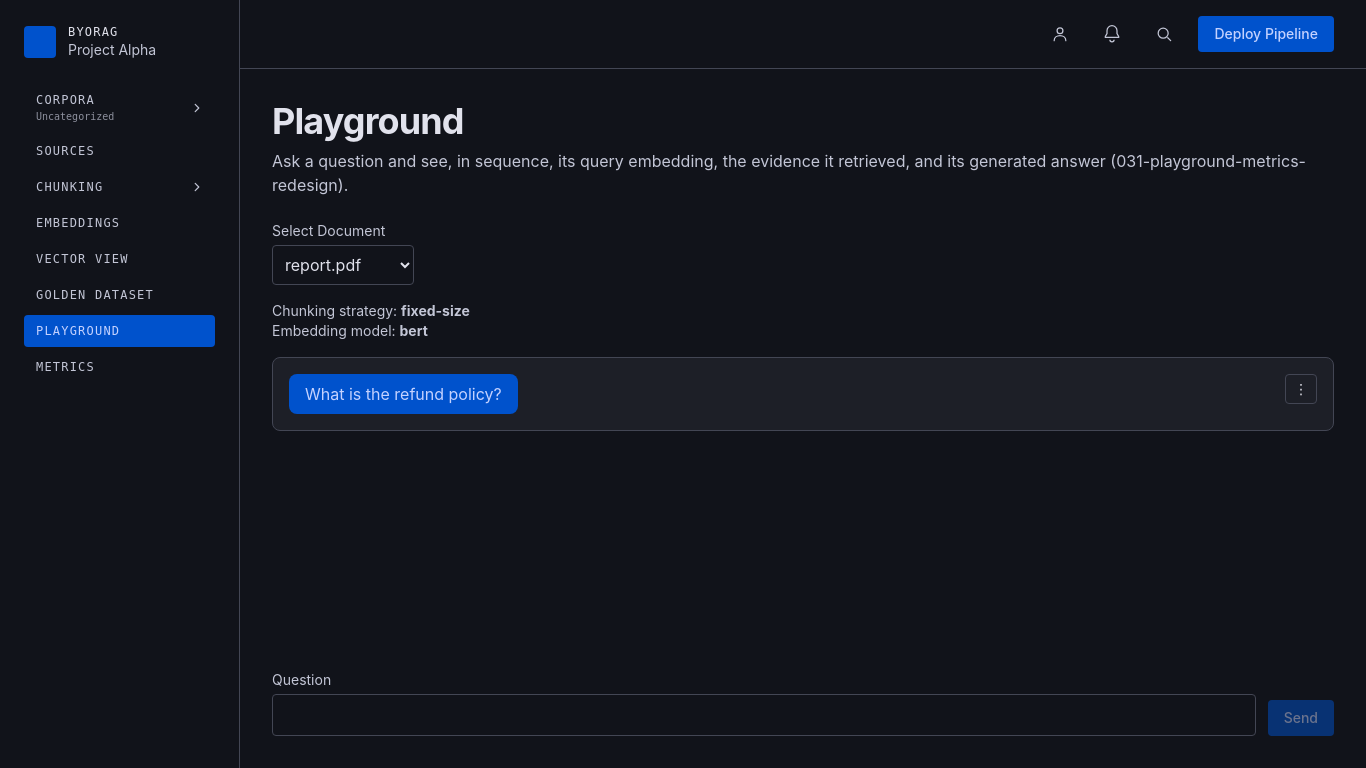
Test: PlaygroundScreen — every turn shows its own retrieved chunks and query embedding behind Actions (033-ui-ux-polish US6) › reveals the remaining embedding values after Show more is clicked
Click the button named "actions for " at (1301, 389), box [1285,374,1317,404]
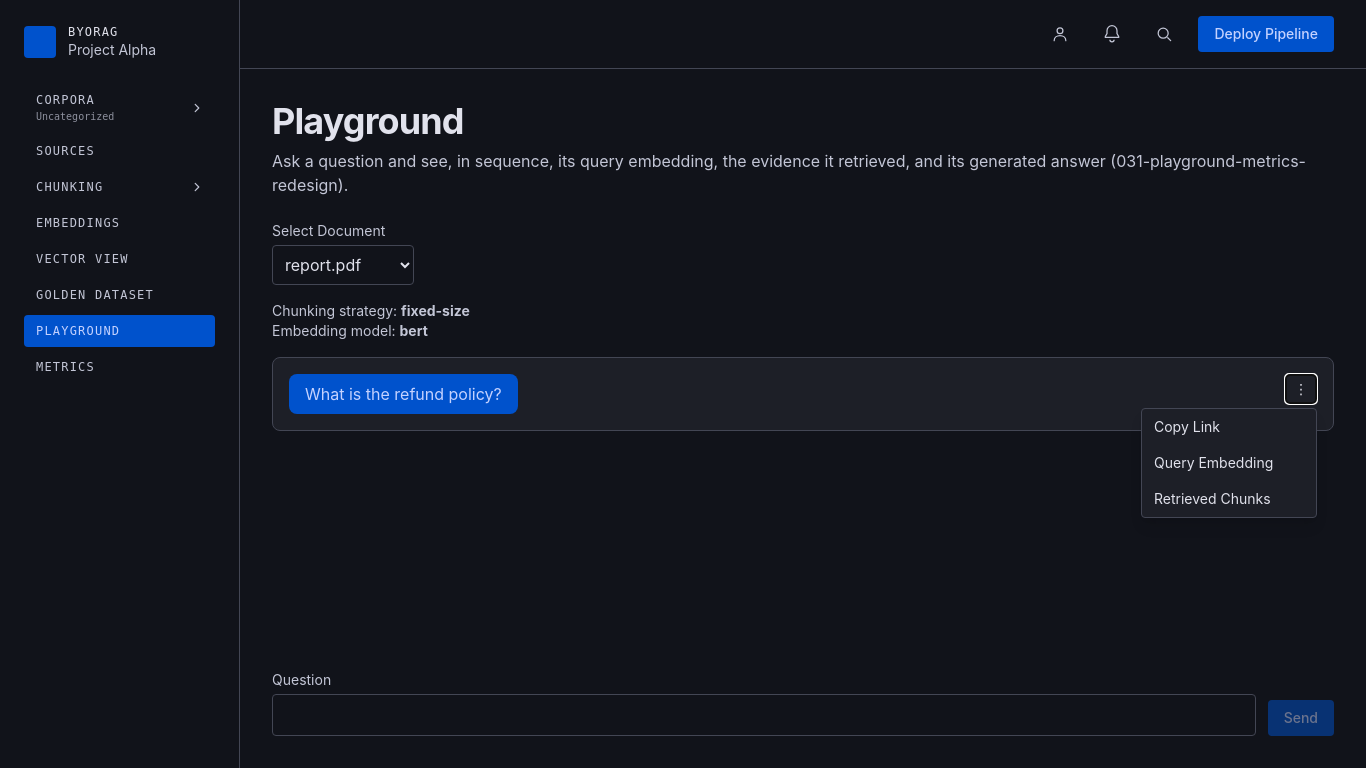
Click the menu item "Query Embedding" at (1229, 463), box [1142,445,1316,481]
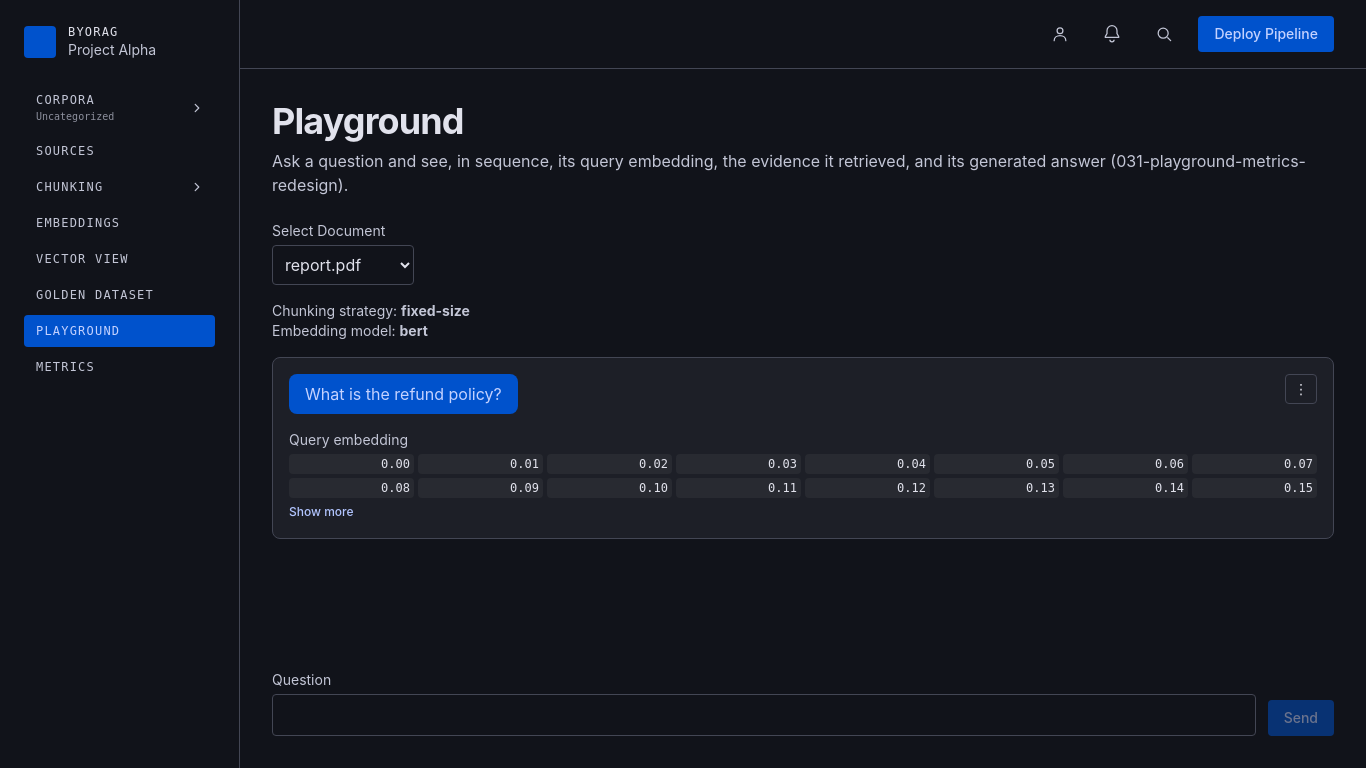
Click the button with aria-label "show more embedding values" at (321, 512), box [289,504,354,520]
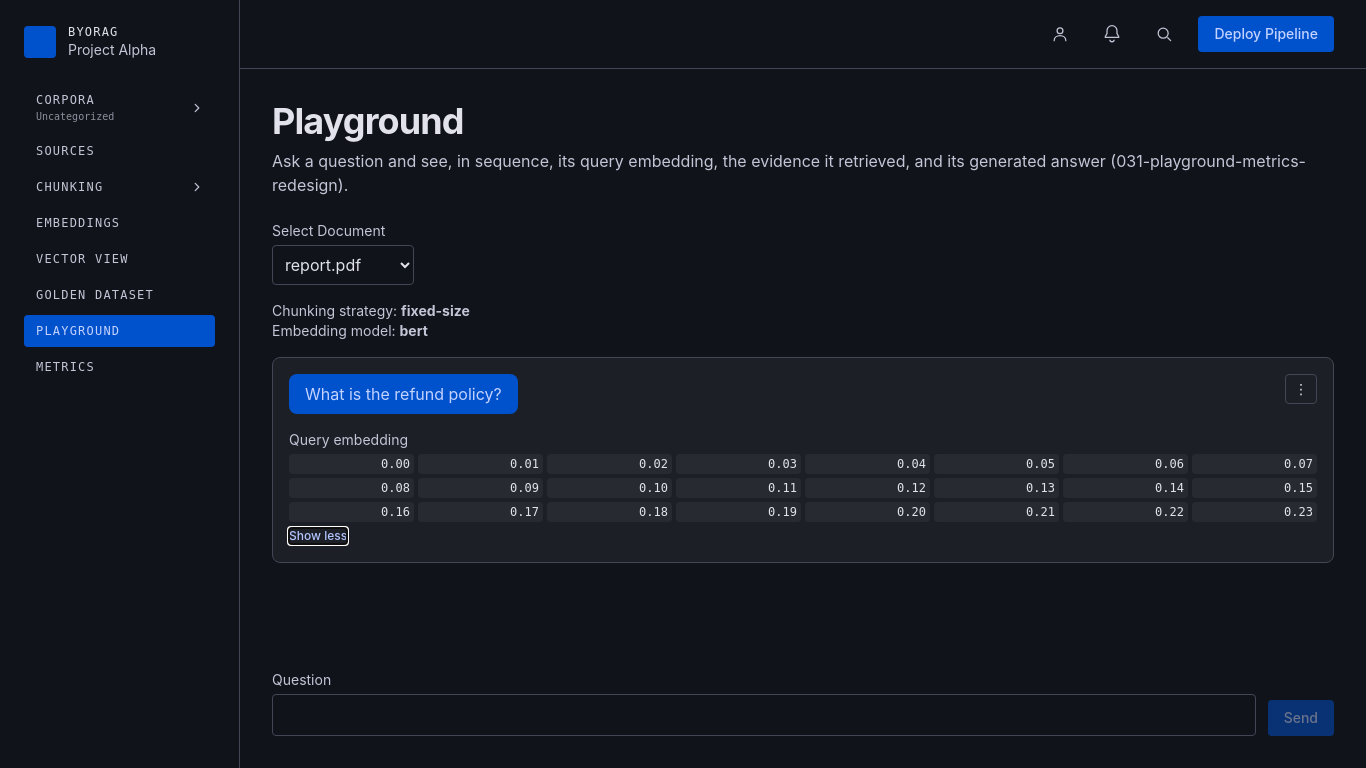
Check: the element with test id "playground-embedding-preview" shows "0.23", box [1284,505,1313,519]
